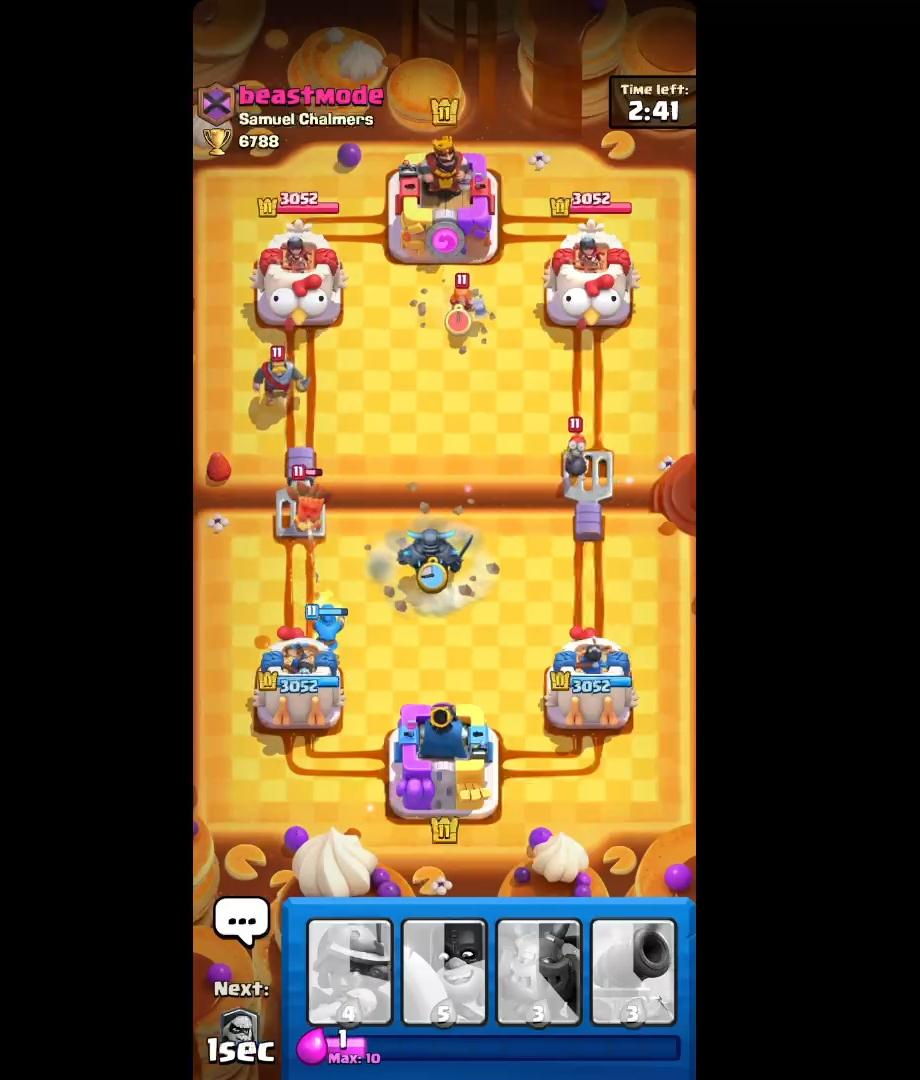Bomber: (559, 418, 601, 484)
Knight: (245, 338, 314, 410)
